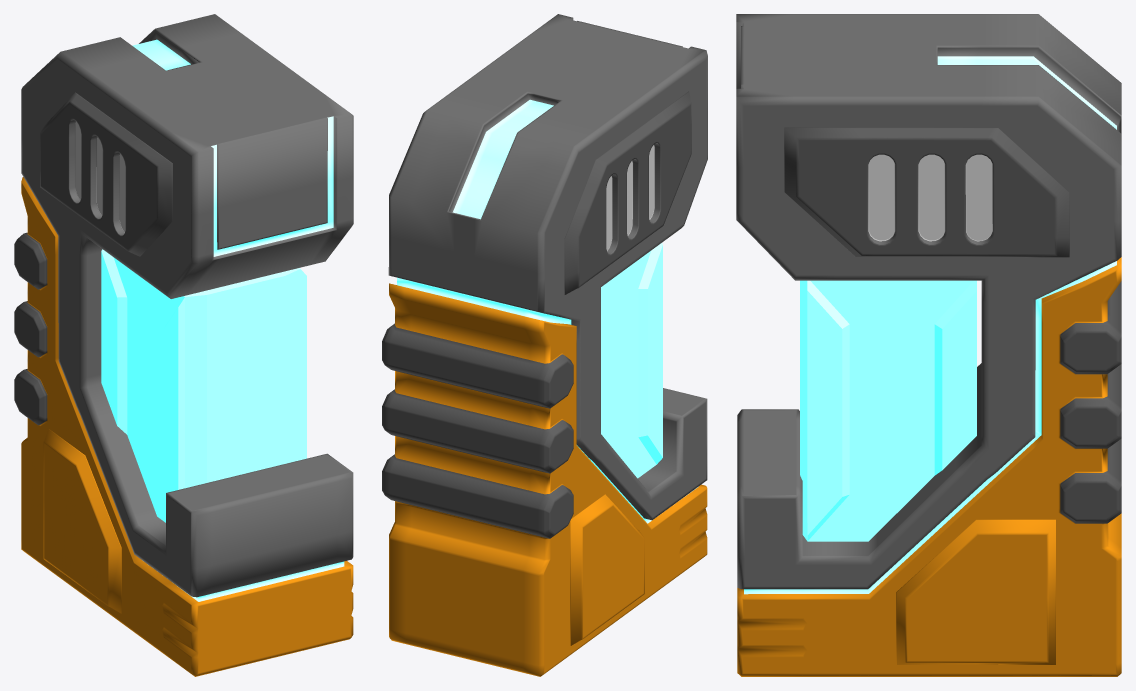
The model's file is energy cell.fbx.
3 renders of one model, left to right at view 1: azimuth 30°, elevation 25°; view 2: azimuth 150°, elevation 25°; view 3: azimuth 270°, elevation 25°, orthographic. The views are drawn at different scales.
Parts seen in each view (by area): view 1: MIPc cell; view 2: MIPc cell; view 3: MIPc cell.
Part boxes in pixels (bbox=[...]): MIPc cell: bbox=[14, 14, 353, 676]; MIPc cell: bbox=[382, 14, 707, 676]; MIPc cell: bbox=[736, 14, 1121, 676].
Size of the model in its own units: 18.4 by 51.63 by 31.11.
